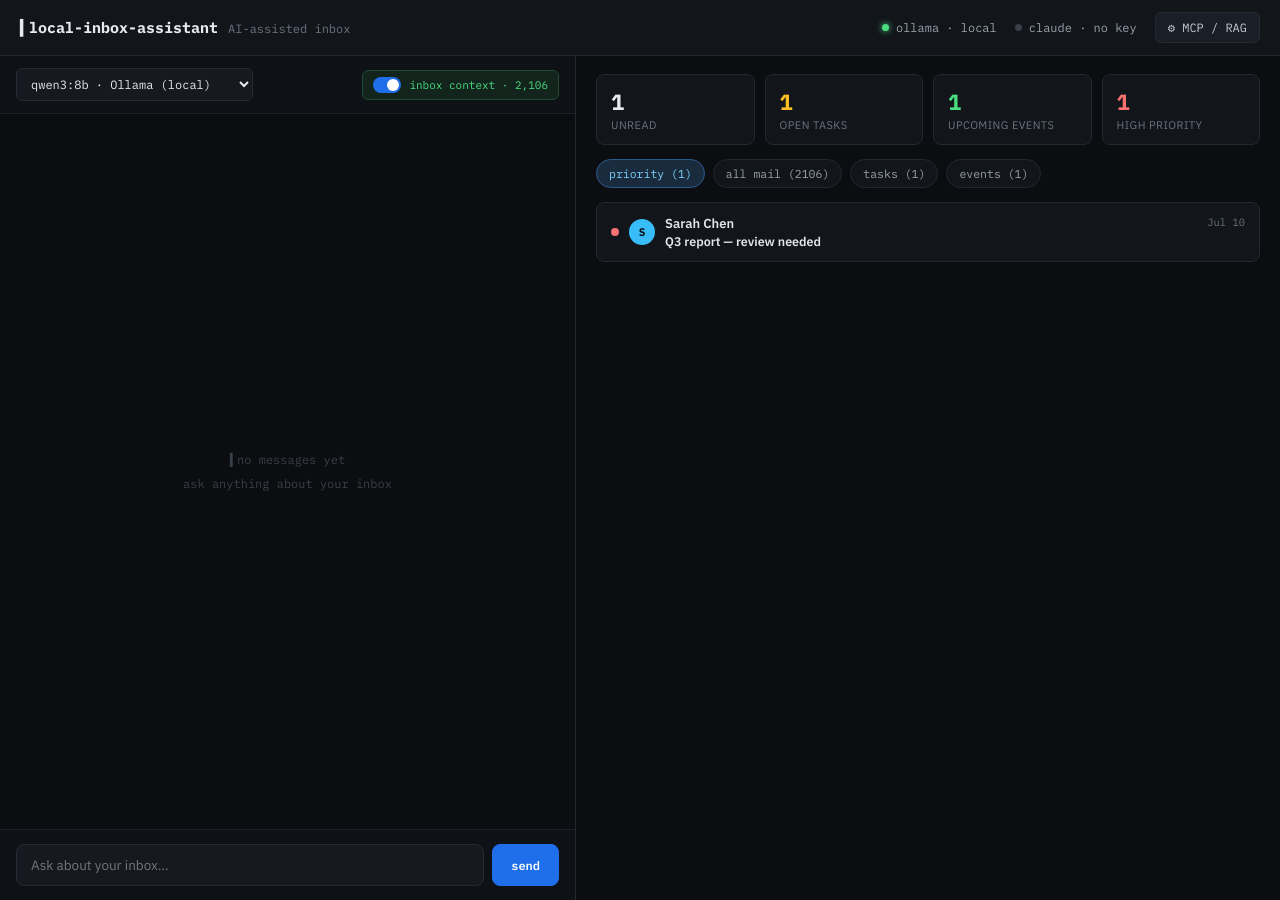
App › pulls an email older than the all-mail window into the list when jumping to it
This screenshot has width=1280, height=900.
Step 1. Click the button "events (1)" → (994, 174), box [946, 159, 1041, 188]
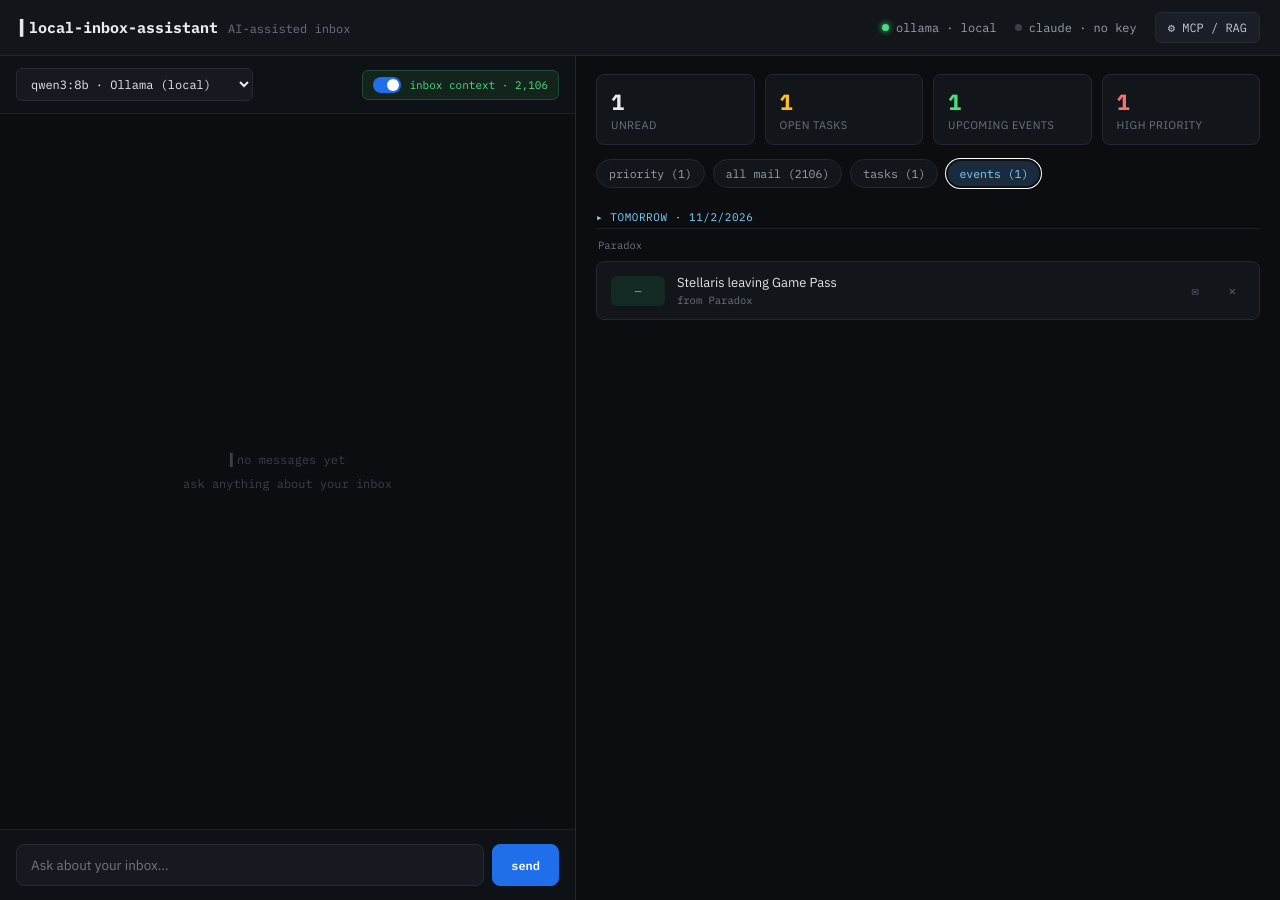
Check: the text "Stellaris leaving Game Pass" is shown, box [677, 274, 837, 291]
Step 2. Click the button titled "Show source email in all mail" → (1195, 290), box [1182, 278, 1208, 303]
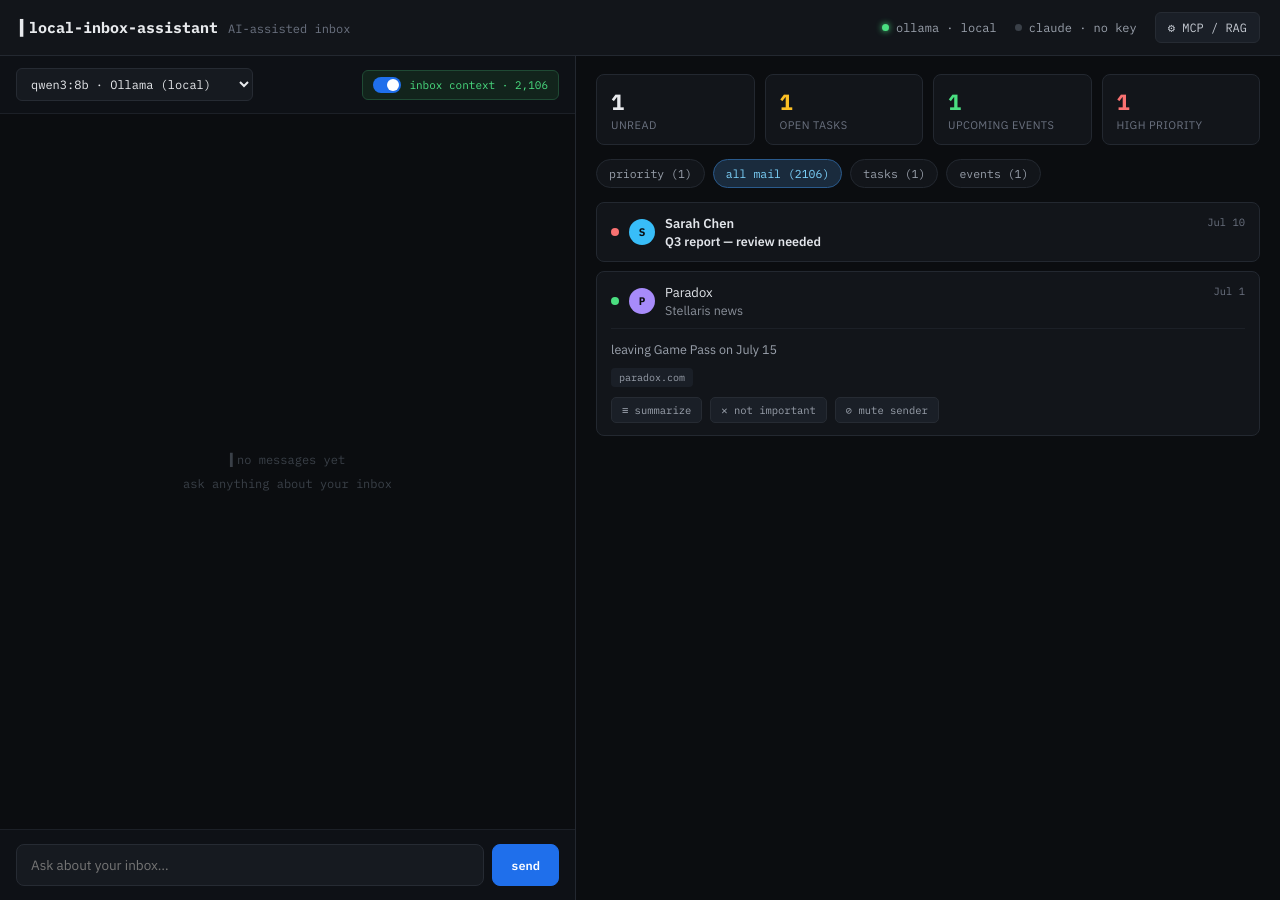
Check: the text "Stellaris news" is shown, box [665, 302, 743, 318]
Check: the text "leaving Game Pass on July 15" is shown, box [611, 341, 777, 357]
